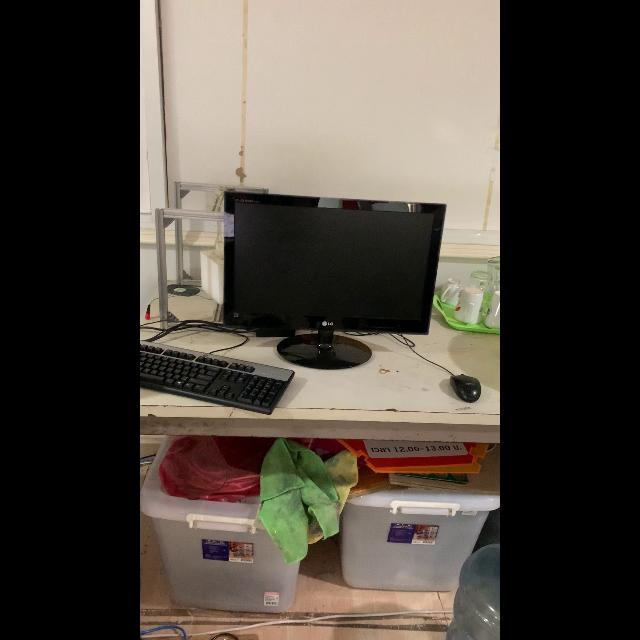Flat-Panel-Monitor: (224, 184, 448, 376)
